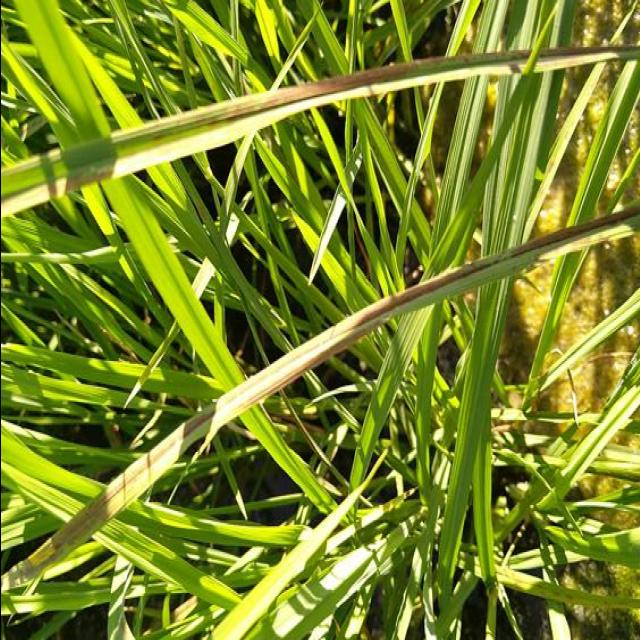Leaf Streak: (24, 198, 640, 567), (0, 46, 640, 218)
